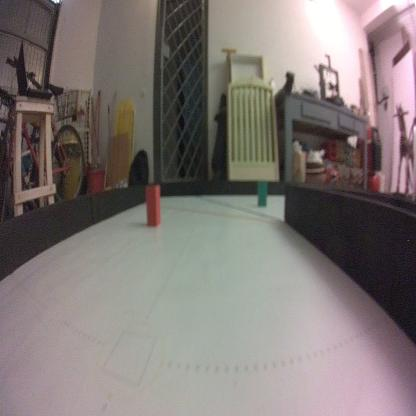green: (256, 176, 268, 206)
red: (144, 181, 162, 228)
